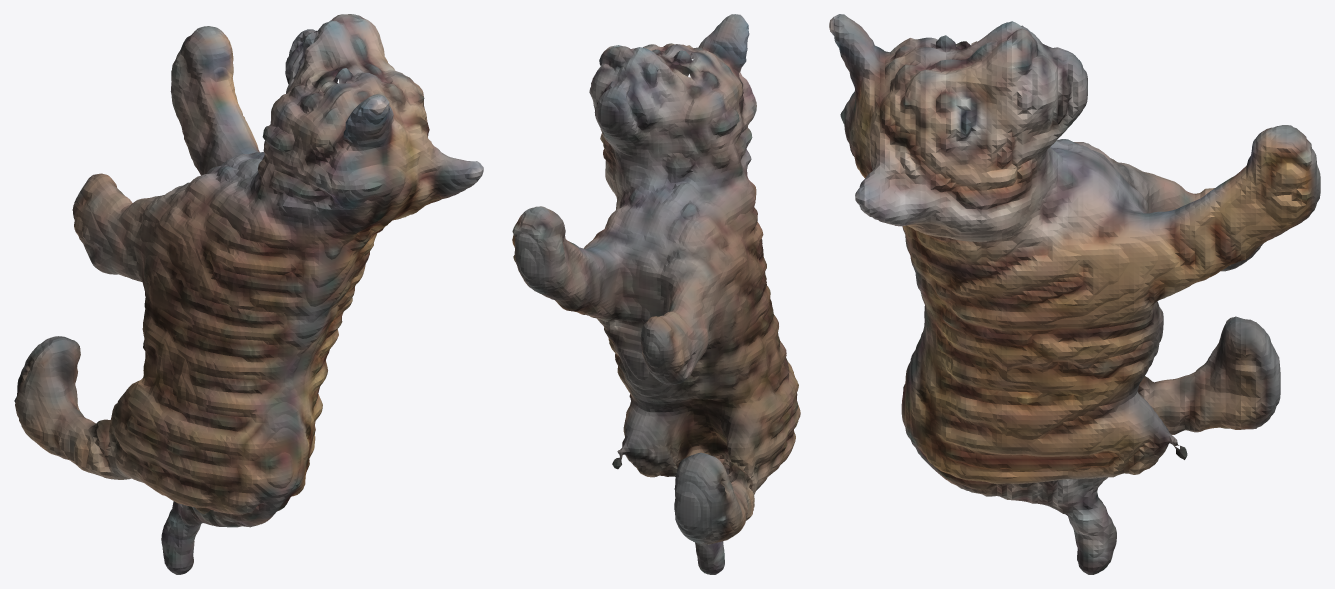
3 views of the same model, side by side, from view 1: azimuth 30°, elevation 25°; view 2: azimuth 150°, elevation 25°; view 3: azimuth 270°, elevation 25° (orthographic). The views are drawn at different scales.
Visible parts, largest first — view 1: world; view 2: world; view 3: world.
Boxes of the visible parts, x1,y1,x2,y2 form: world: (14,14,483,574); world: (512,14,800,574); world: (829,14,1320,574).
Size of the model in its own units: 0.5152 by 0.9107 by 0.6597.
